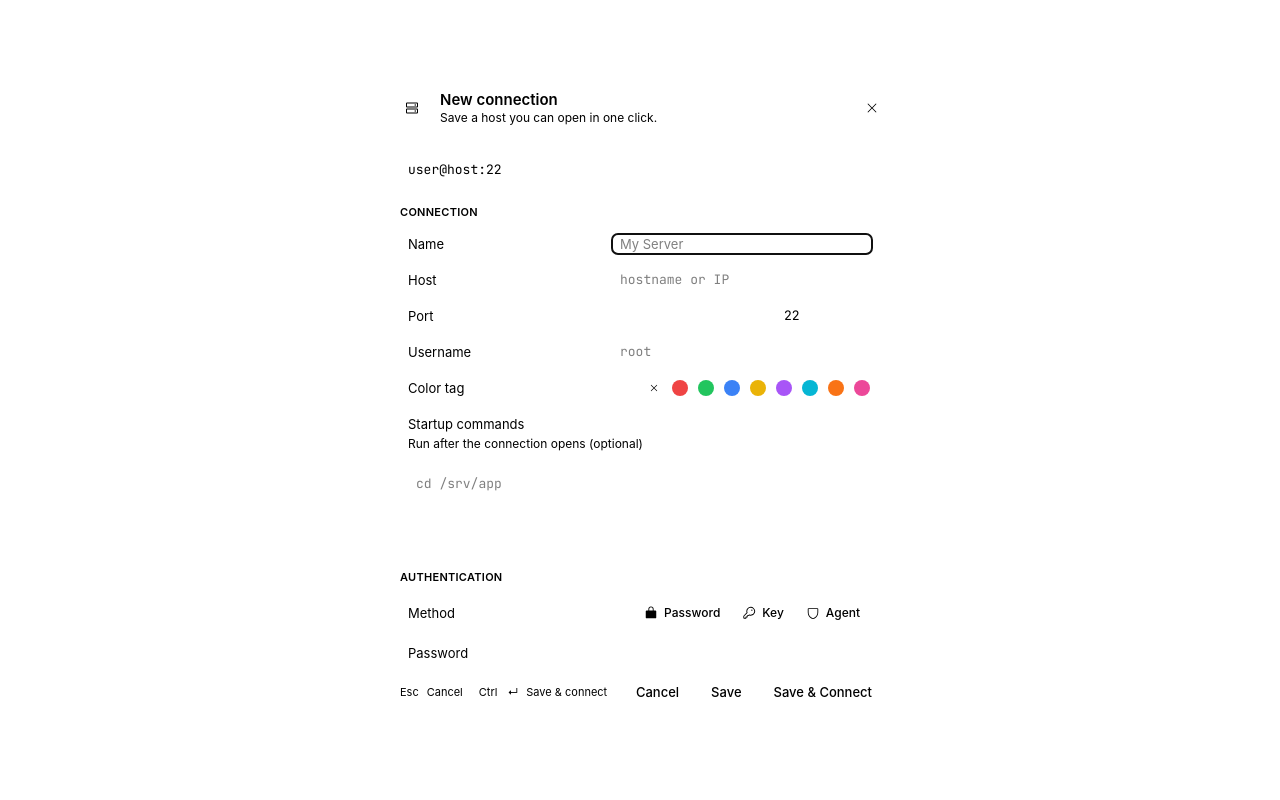
Test: ConnectionDialog › previews user@host:port as you type, with placeholders until filled
This screenshot has width=1280, height=800.
Expected: the element named "Connection preview" reads "user@host:22", [408,161,502,178]
Type "dev" into the field labelled "Name" at (742, 244), box [612,234,872,254]
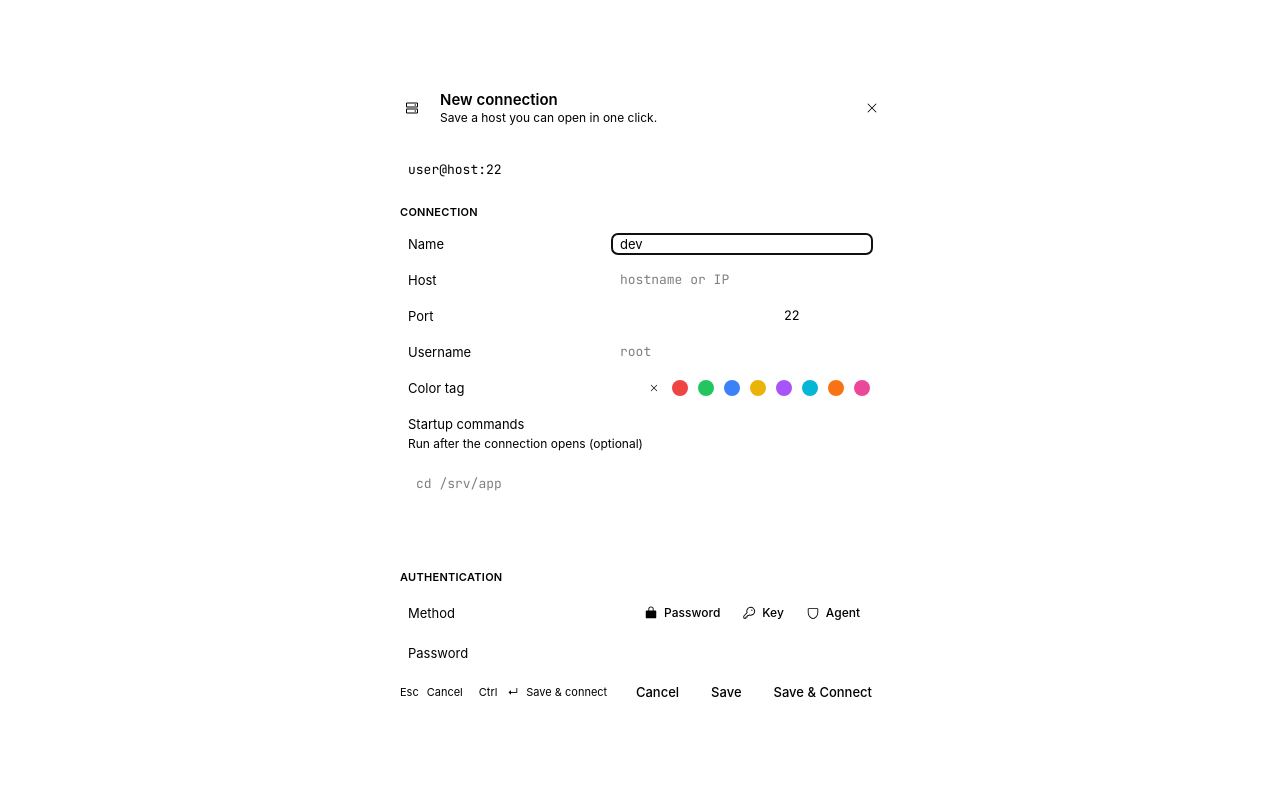
Type "dev.local" into the field labelled "Host" at (742, 280), box [612,270,872,290]
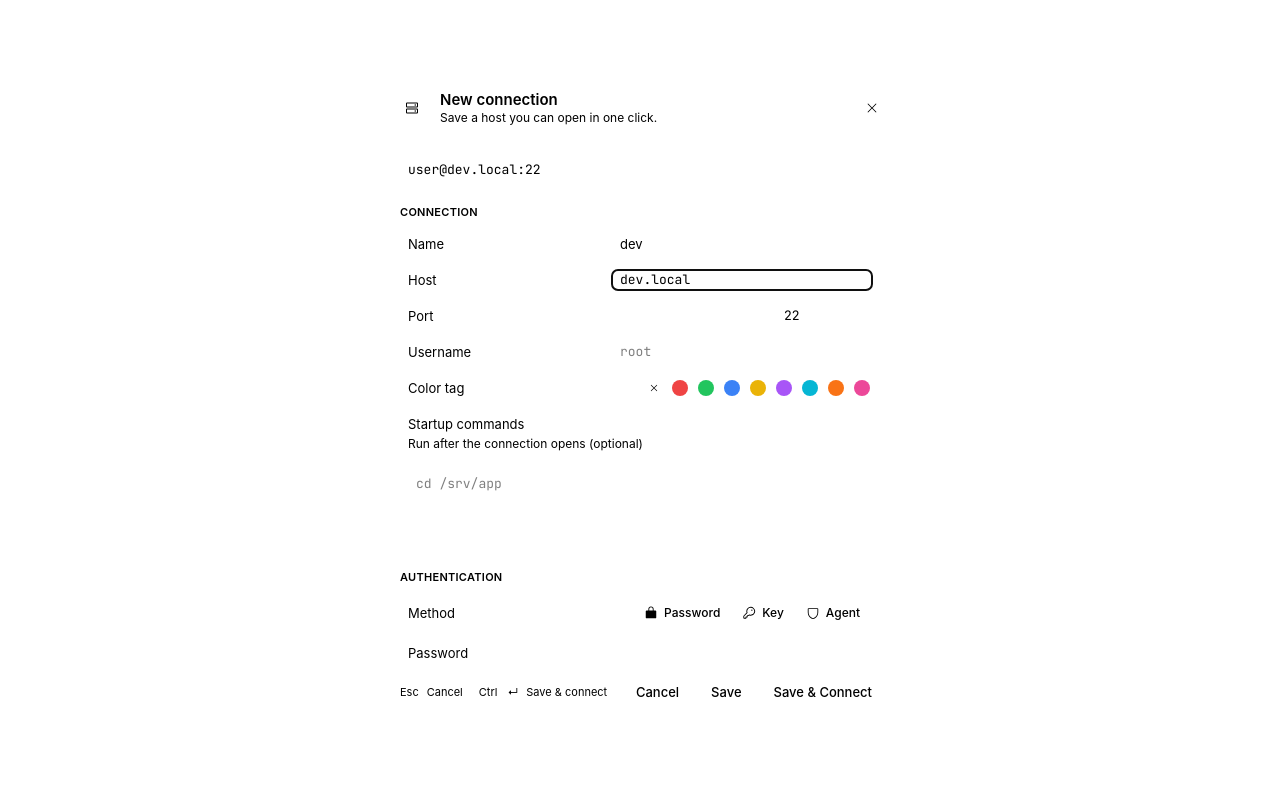
Type "me" into the field labelled "Username" at (742, 352), box [612,342,872,362]
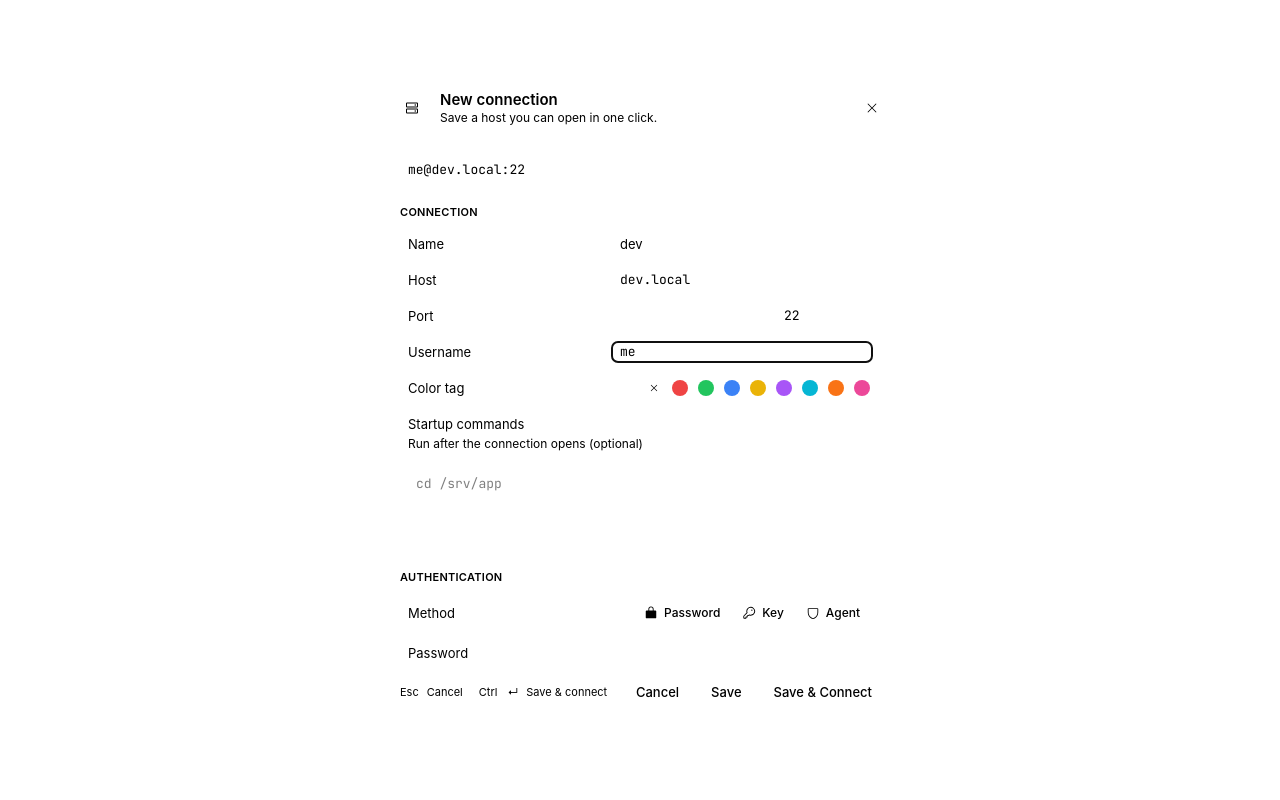
Replace the text in the field labelled "Port" with "2200" at (824, 316), box [776,306,872,326]
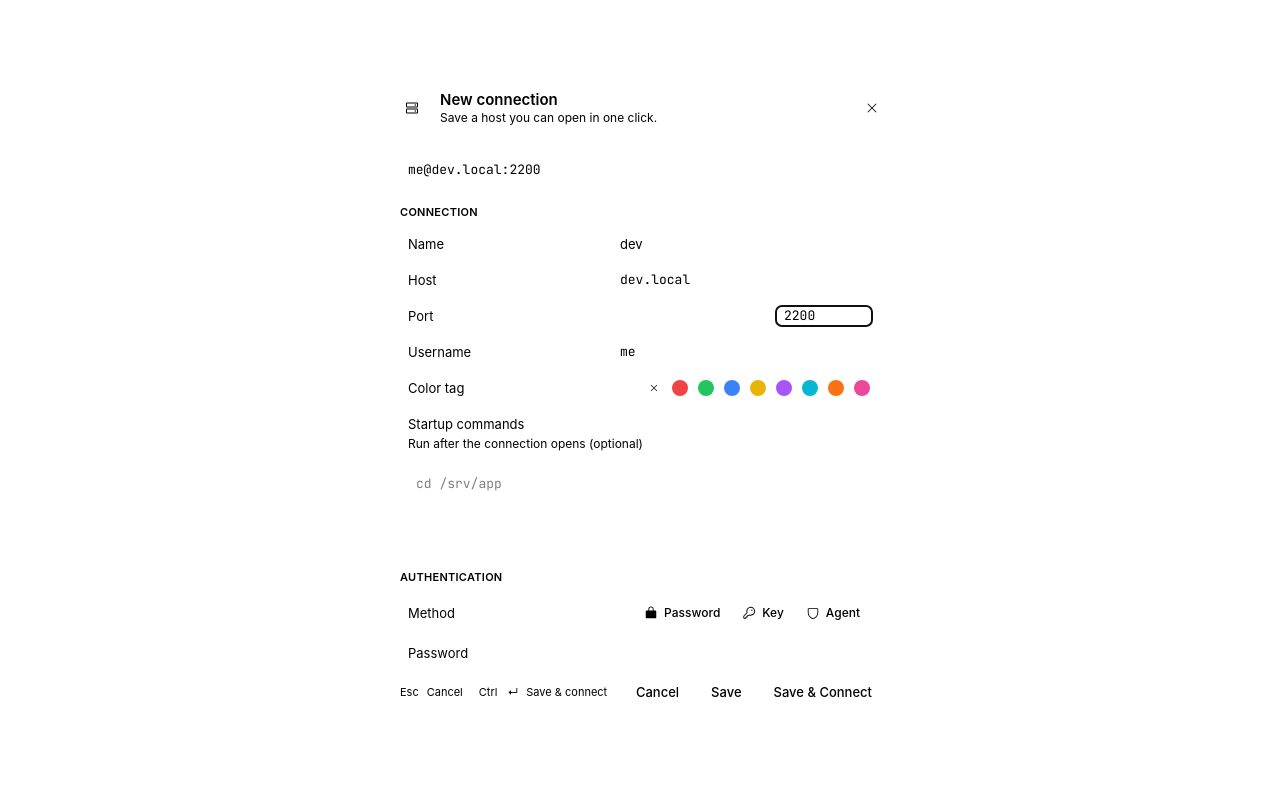
Now the element named "Connection preview" reads "me@dev.local:2200", box [408,161,541,178]
